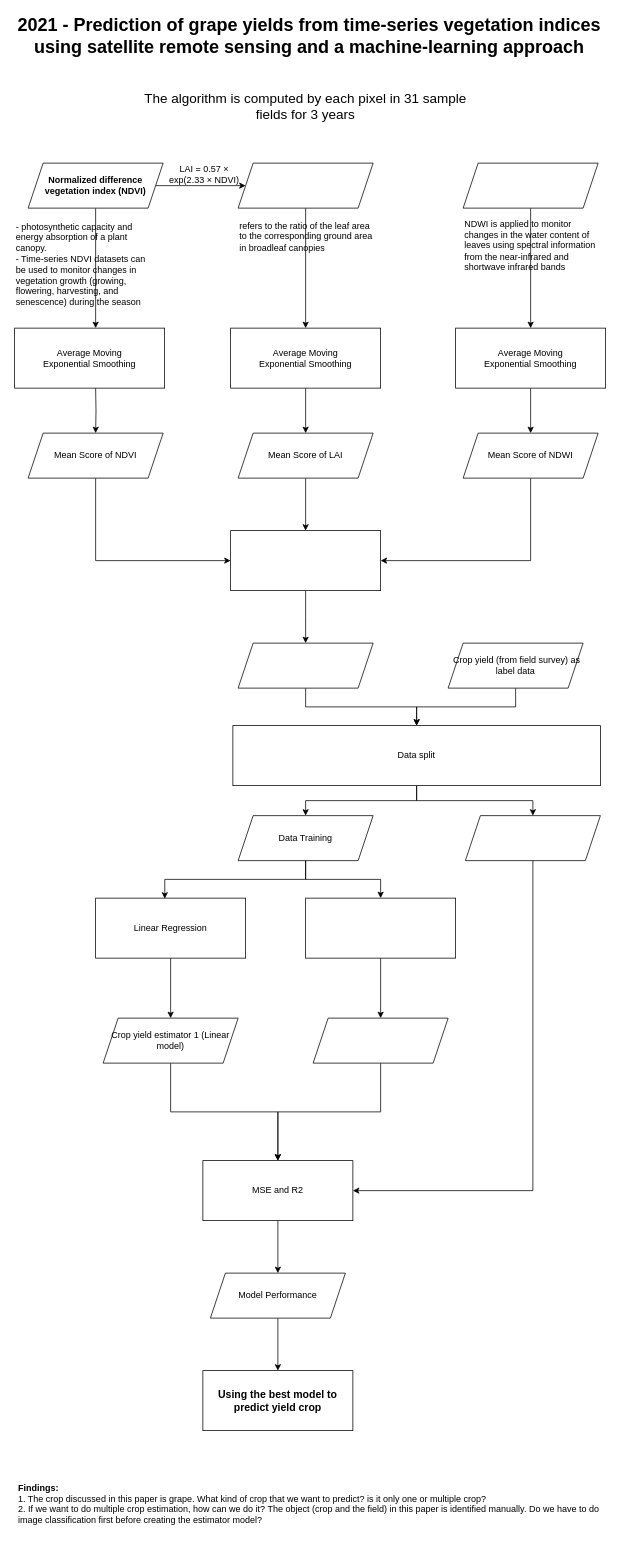
Image size: 622x1563. Some labels were removed from this diagram. The shapes that lost their labels are listed below. From the top down, each one's centre as x and y in pixels, then its label:
At (x=305, y=185): "Leaf Area Index (LAI)".
At (x=530, y=185): "Normalized difference water index (NDWI)".
At (x=305, y=560): "Integrating into tabular data".
At (x=305, y=665): "Mean Score of NDVI, LAI, NDWI in table".
At (x=532, y=838): "Data Testing".
At (x=380, y=927): "Artificial Neural Network (ANN)".
At (x=380, y=1040): "Crop yield estimator 2 (ANN)".
